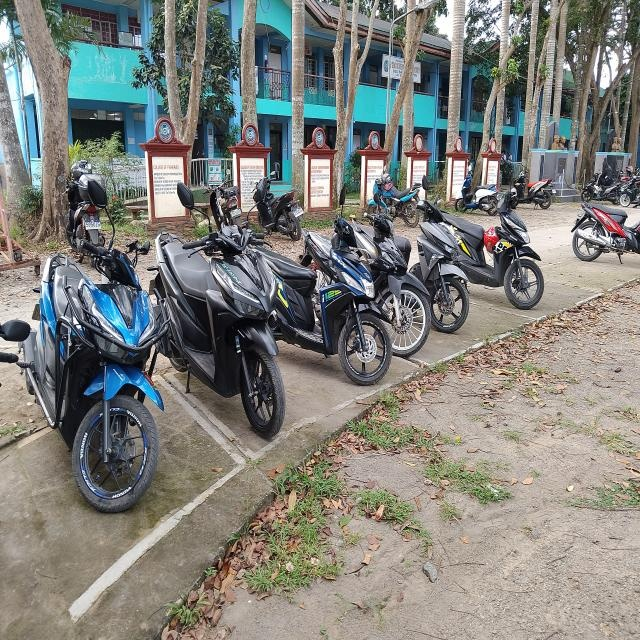Motorcycle: (19, 246, 159, 512), (150, 231, 294, 444), (259, 220, 397, 392), (442, 202, 548, 323), (352, 208, 438, 354), (398, 206, 483, 334), (570, 194, 639, 281), (61, 175, 105, 260), (252, 181, 303, 246), (374, 183, 429, 227)
